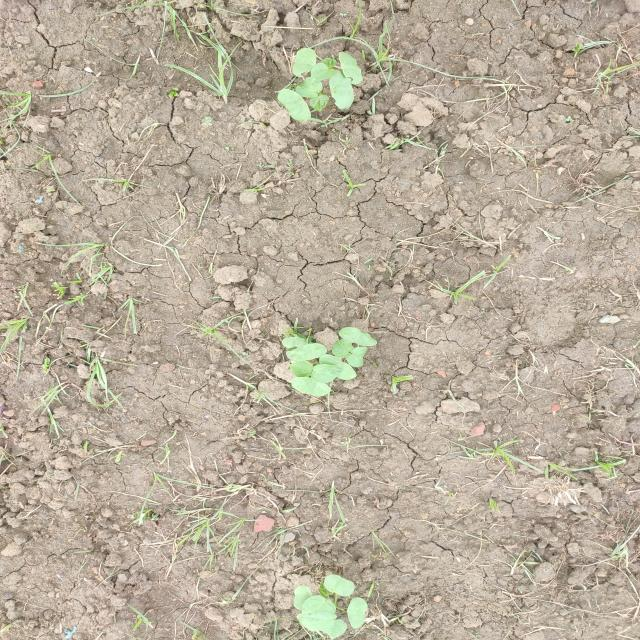seedling_s4: (277, 89, 312, 122), (319, 354, 357, 380), (329, 71, 354, 110), (339, 52, 363, 85), (290, 377, 331, 396), (339, 327, 378, 346), (286, 343, 327, 361), (302, 611, 337, 632), (323, 574, 355, 596), (293, 48, 317, 77), (347, 597, 368, 629), (302, 595, 336, 614), (312, 364, 343, 383), (295, 77, 323, 98), (311, 63, 336, 83), (293, 585, 313, 610), (346, 346, 368, 368), (325, 619, 347, 640), (287, 361, 314, 377), (332, 339, 354, 358), (310, 94, 329, 112), (282, 337, 308, 348)
